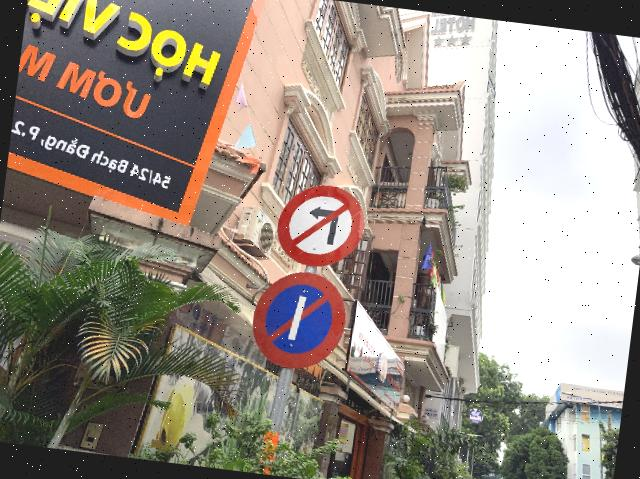cam-do-xe-ngay-le: (246, 266, 351, 376)
cam-re-phai: (272, 180, 368, 274)
